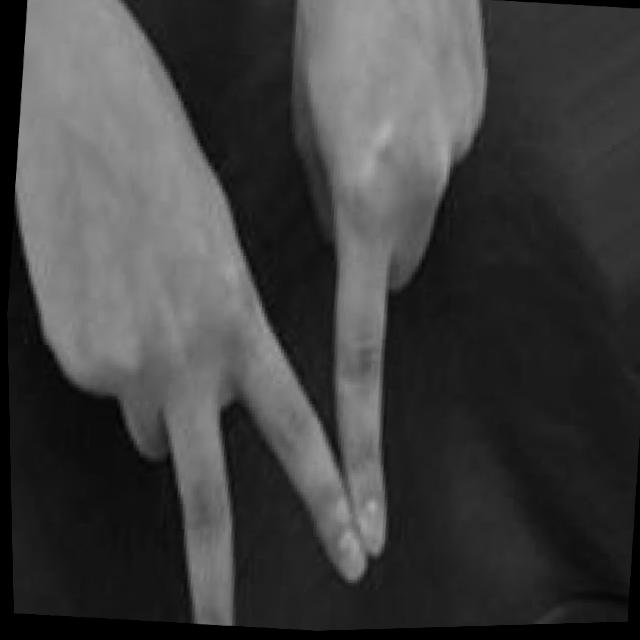N: (0, 0, 512, 640)
